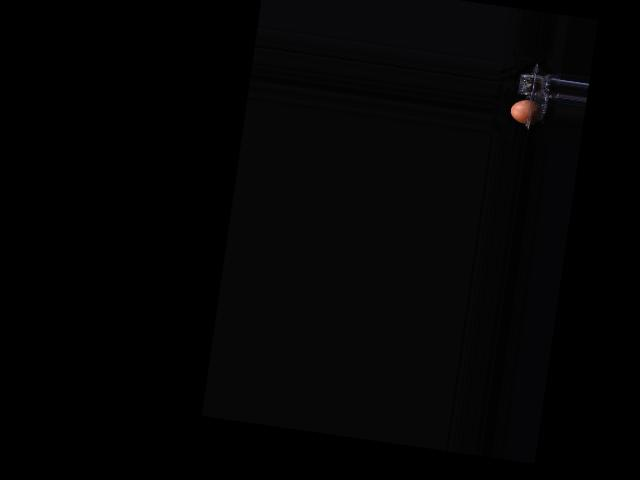egg: (509, 98, 544, 126)
